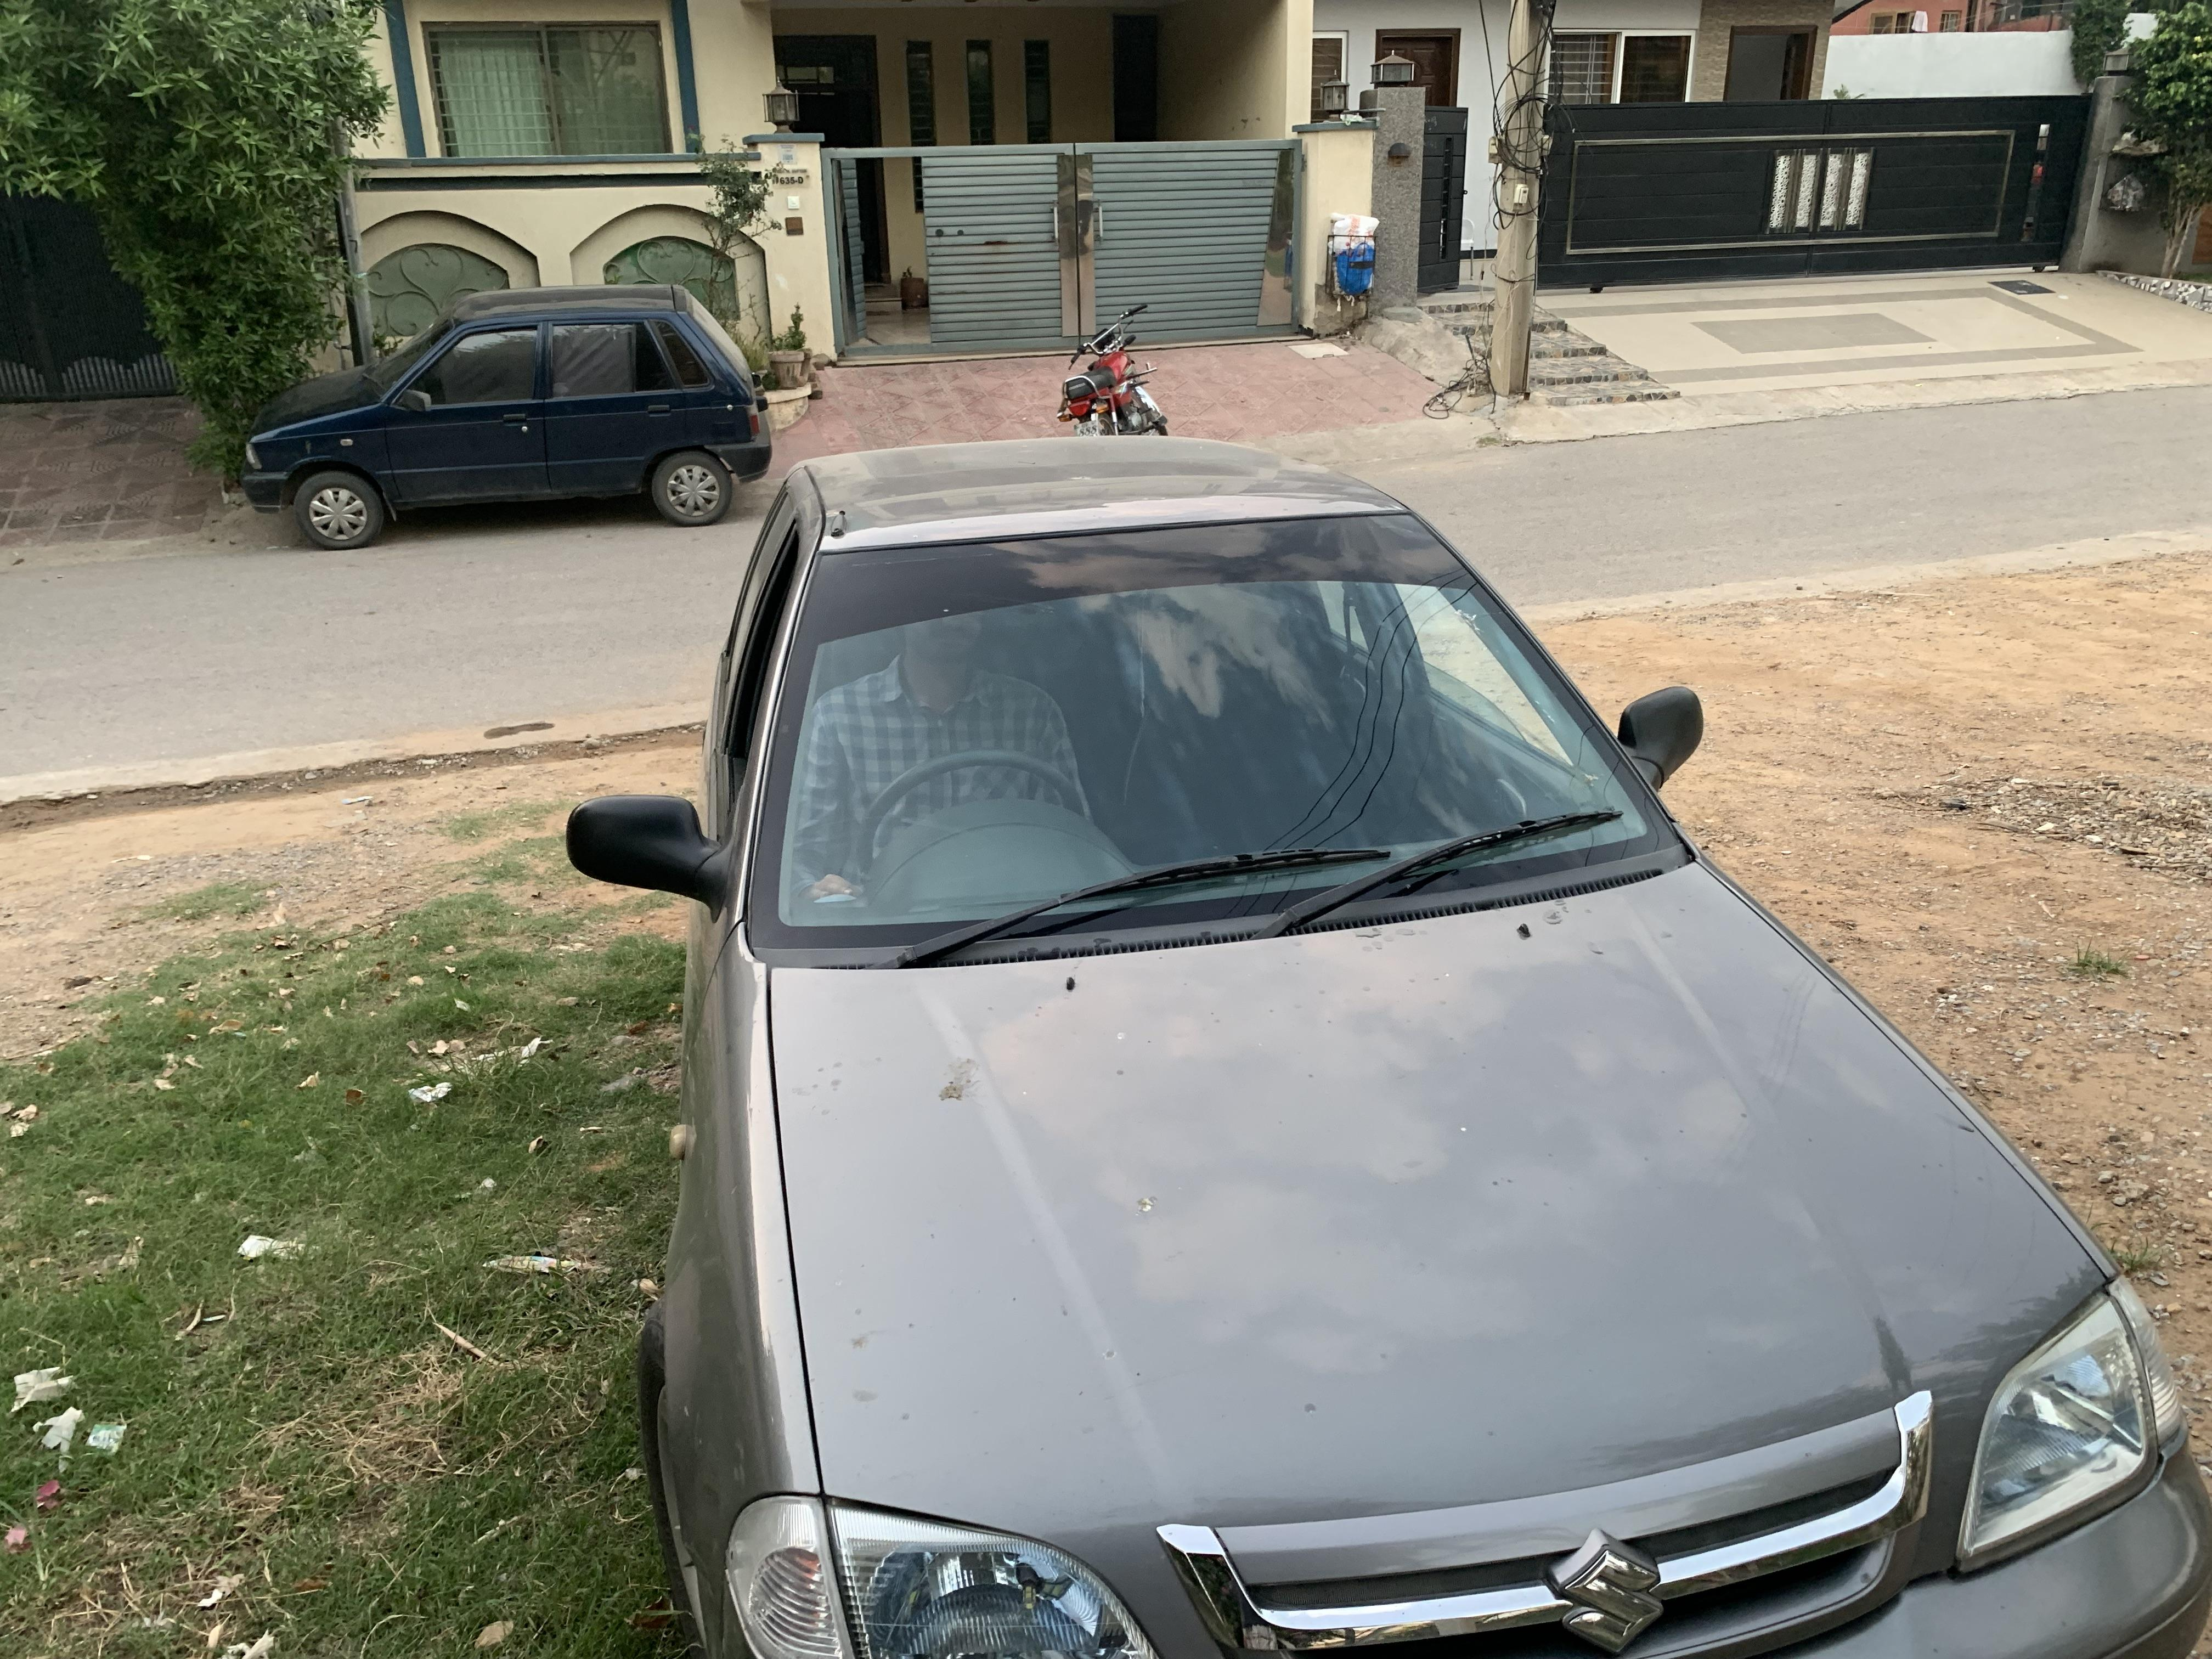windshield: (714, 493, 1723, 1004)
